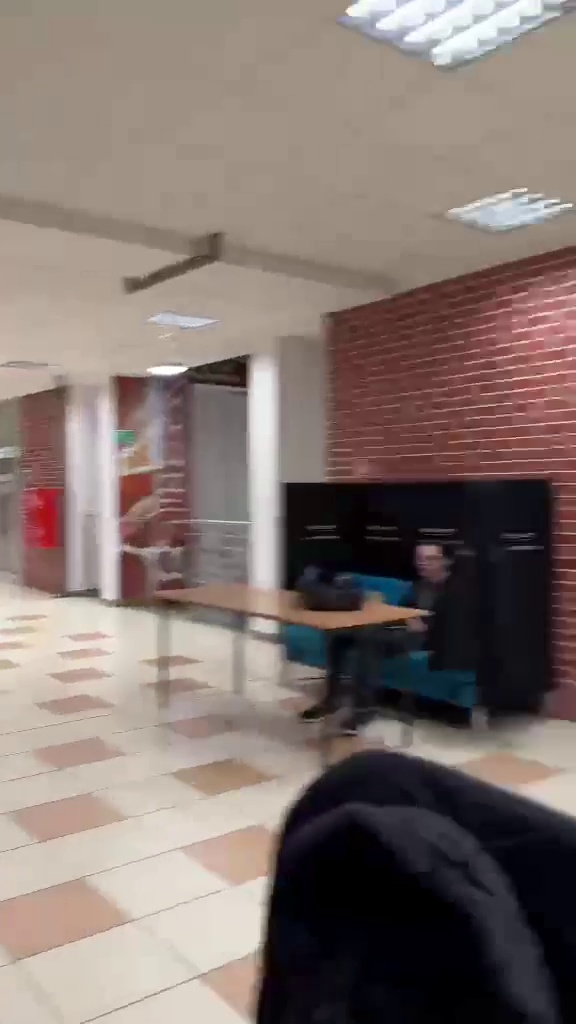no vest: (327, 531, 462, 726)
